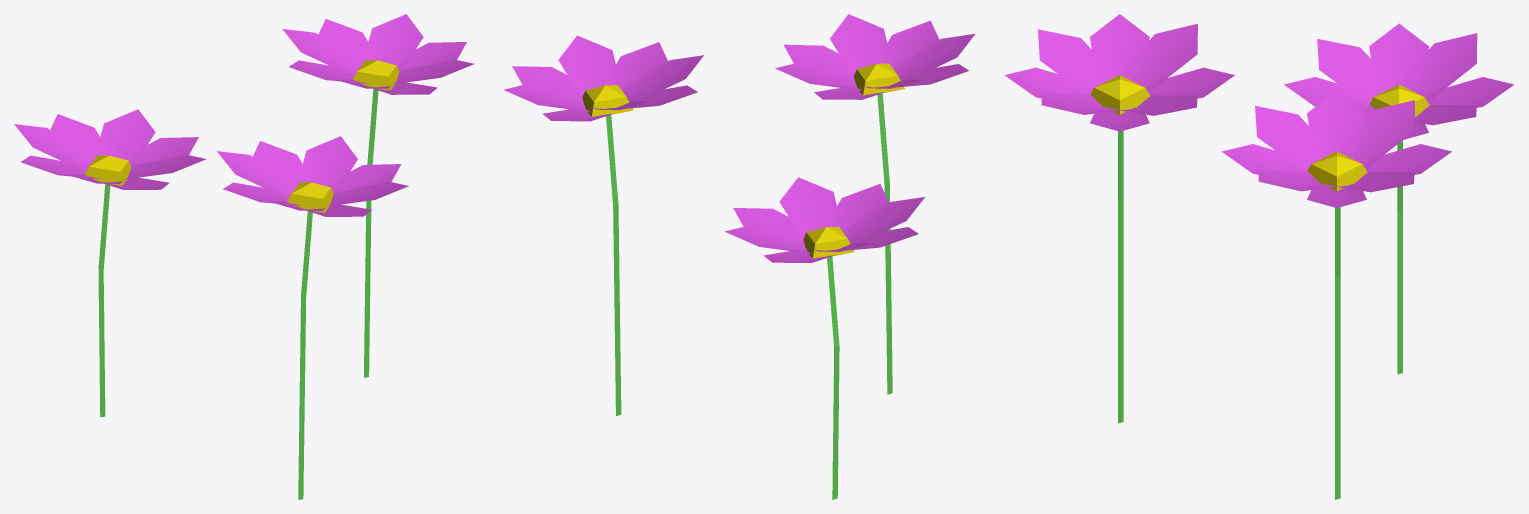
The model's file is Flowers.fbx.
The picture shows the model from 3 angles, left to right: view 1: azimuth 30°, elevation 25°; view 2: azimuth 150°, elevation 25°; view 3: azimuth 270°, elevation 25°; orthographic projection. The views are drawn at different scales.
Visible parts, largest first — view 1: Cylinder.011; view 2: Cylinder.011; view 3: Cylinder.011.
Part boxes in pixels (x1=…): Cylinder.011: x1=14, y1=14, x2=474, y2=499; Cylinder.011: x1=503, y1=14, x2=975, y2=499; Cylinder.011: x1=1004, y1=14, x2=1514, y2=499.
Bounding box in the file's own units: 140 × 110 × 132.
